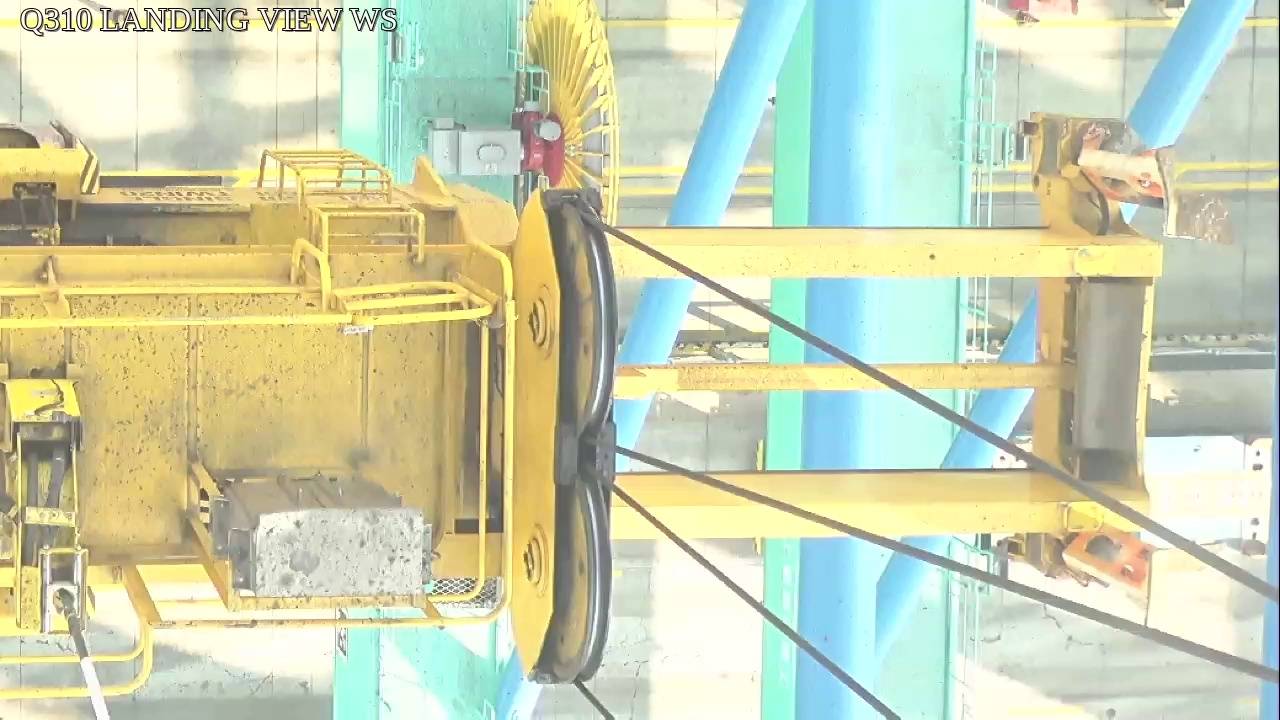right: (512, 188, 619, 685)
